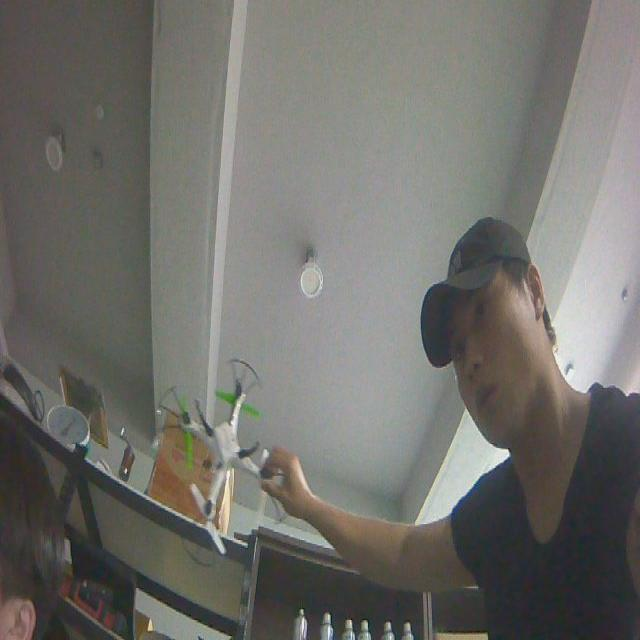drone: (153, 356, 293, 571)
